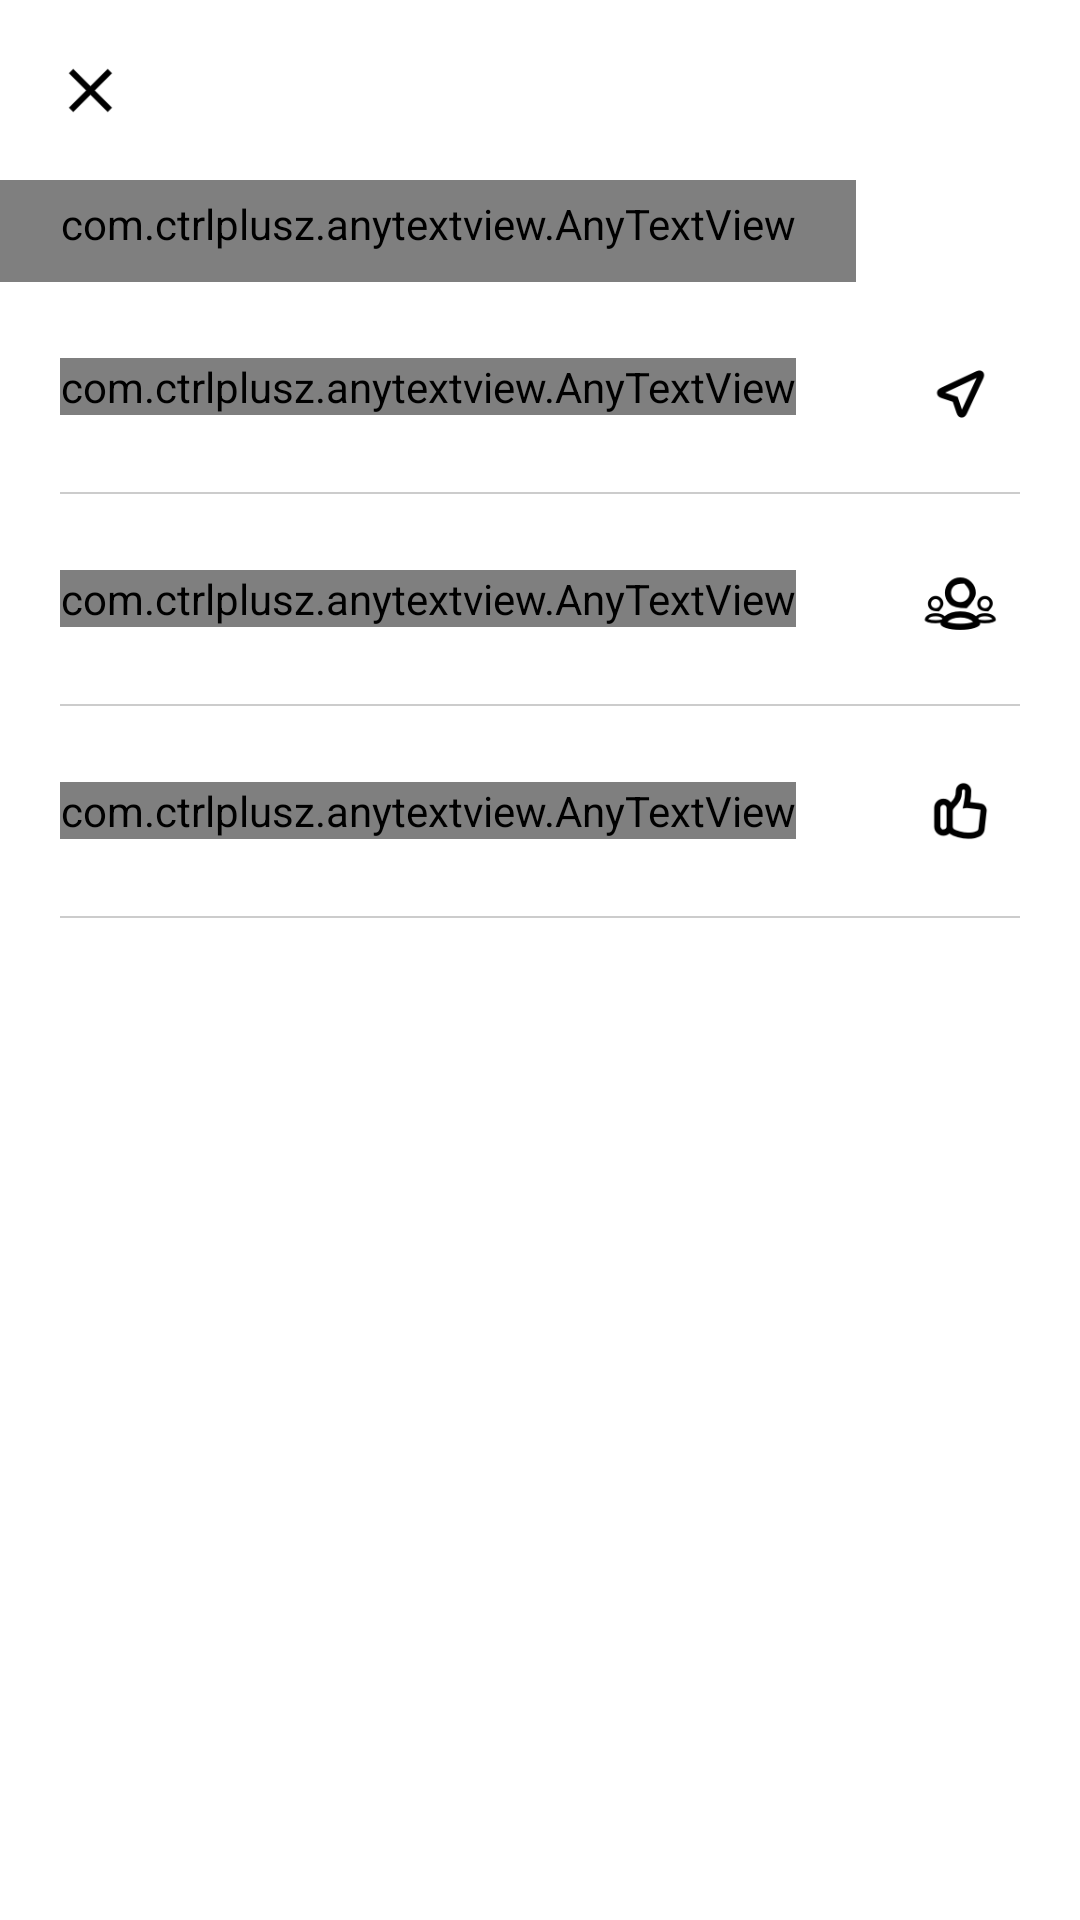

Icons on this 1080x1920 Android screen, each with the point to tap as (x=x, y=y):
cancel: (x=90, y=90)
rate us: (x=960, y=811)
